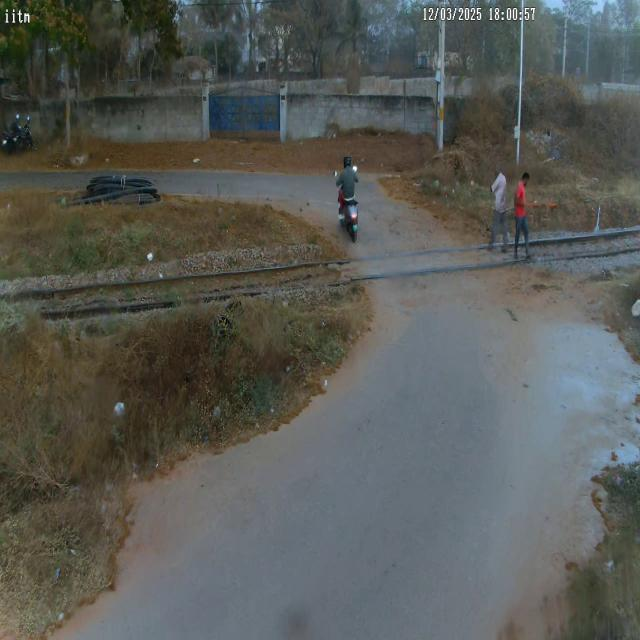objects: (332, 149, 363, 243), (514, 174, 539, 260), (487, 166, 510, 254)
